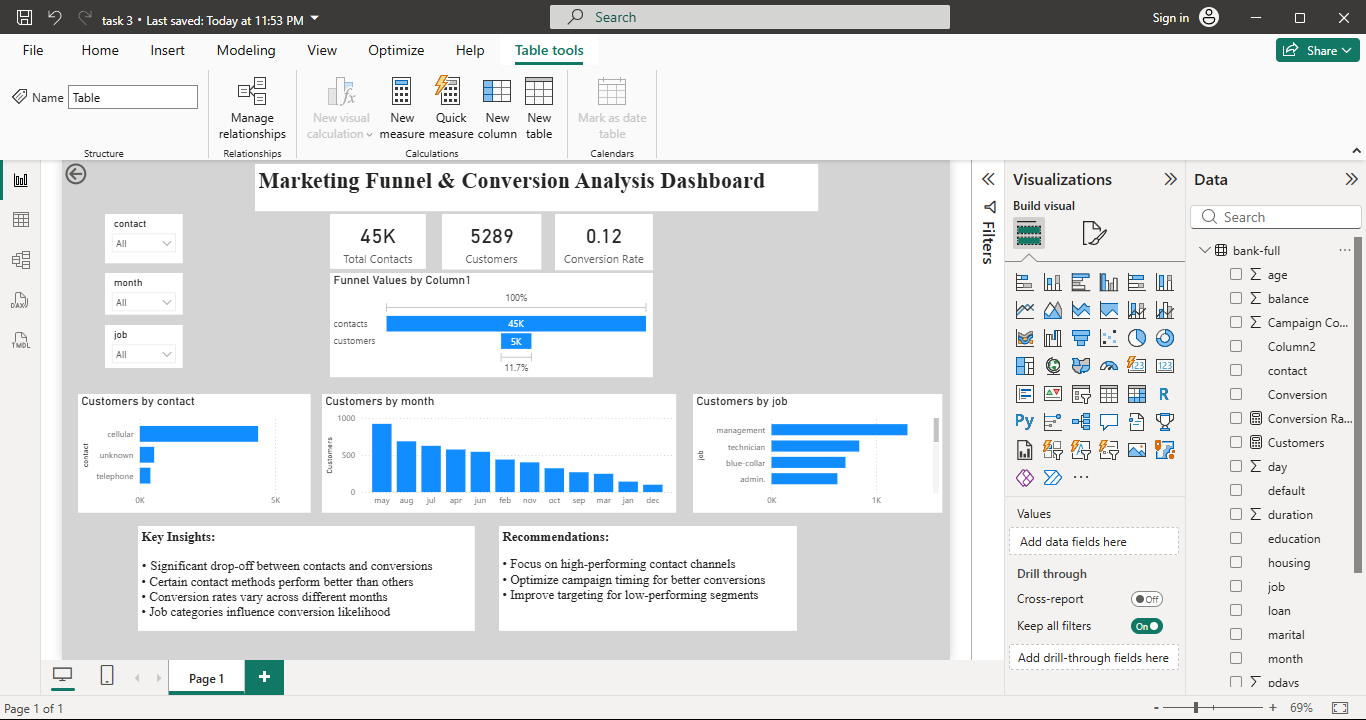

What the dashboard file says about the page in this screenshot:
{"tool":"powerbi","page":{"name":"Page 1","canvas":[1280,720],"ordinal":0},"visuals":[{"type":"card","fields":{"Values":["bank-full.Total Contacts"]},"box":[385.9,77.8,138.2,79.2],"z":0},{"type":"actionButton","box":[0,0,100,40],"z":1000},{"type":"card","fields":{"Values":["bank-full.Customers"]},"box":[547.5,77.5,142.5,80],"z":2000},{"type":"barChart","fields":{"Category":["bank-full.contact"],"Y":["bank-full.Customers"]},"box":[22.5,337.5,335,171.2],"z":3000},{"type":"funnel","fields":{"Y":["Table.Funnel Values"],"Category":["Table.Column1"]},"box":[386.2,162.5,465,150],"z":4000},{"type":"columnChart","fields":{"Y":["bank-full.Customers"],"Category":["bank-full.month"]},"box":[373.8,337.5,510,171.2],"z":5000},{"type":"barChart","fields":{"Category":["bank-full.job"],"Y":["bank-full.Customers"]},"box":[908.8,337.5,358.8,171.2],"z":6000},{"type":"slicer","fields":{"Values":["bank-full.month"]},"box":[61.9,162.7,112.3,60.5],"z":8000},{"type":"slicer","fields":{"Values":["bank-full.job"]},"box":[61.9,237.6,112.3,61.9],"z":9000},{"type":"textbox","box":[277.9,5.8,810.7,67.7],"z":10000},{"type":"textbox","box":[109.4,527,485.3,151.2],"z":11000},{"type":"slicer","fields":{"Values":["bank-full.contact"]},"box":[61.9,77.8,112.3,70.6],"z":12000},{"type":"card","fields":{"Values":["bank-full.Conversion Rate"]},"box":[709.9,77.8,141.1,80.6],"z":13000},{"type":"textbox","box":[629.3,527,429.1,151.2],"z":14000}]}

Visuals, with their boxes on the page's 1280x720 design canvas (x1, y1, x2, y2). These are canvas units, not pixel positions in the 1366x720 screenshot, which may show the page scaled, cropped or inside an application window:
card - bank-full.Total Contacts: region(386, 78, 524, 157)
actionButton: region(0, 0, 100, 40)
card - bank-full.Customers: region(548, 78, 690, 158)
barChart - bank-full.contact x bank-full.Customers: region(22, 338, 358, 509)
funnel - Table.Funnel Values x Table.Column1: region(386, 162, 851, 312)
columnChart - bank-full.Customers x bank-full.month: region(374, 338, 884, 509)
barChart - bank-full.job x bank-full.Customers: region(909, 338, 1268, 509)
slicer - bank-full.month: region(62, 163, 174, 223)
slicer - bank-full.job: region(62, 238, 174, 300)
textbox: region(278, 6, 1089, 74)
textbox: region(109, 527, 595, 678)
slicer - bank-full.contact: region(62, 78, 174, 148)
card - bank-full.Conversion Rate: region(710, 78, 851, 158)
textbox: region(629, 527, 1058, 678)
